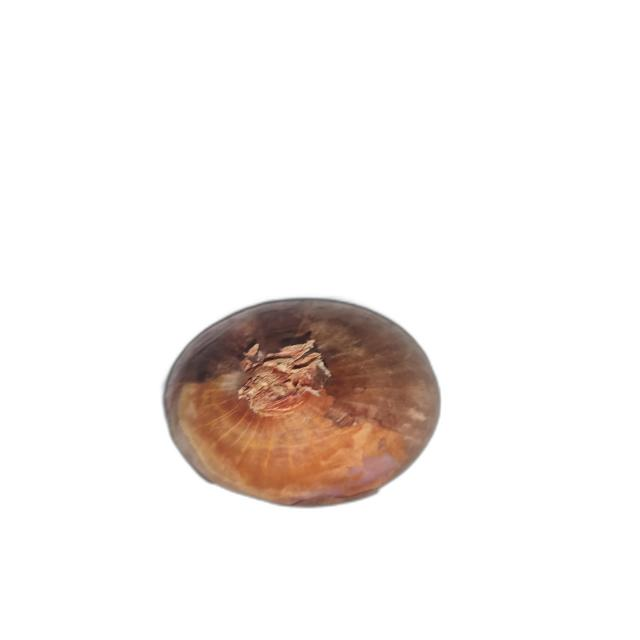onion: (162, 296, 442, 508)
